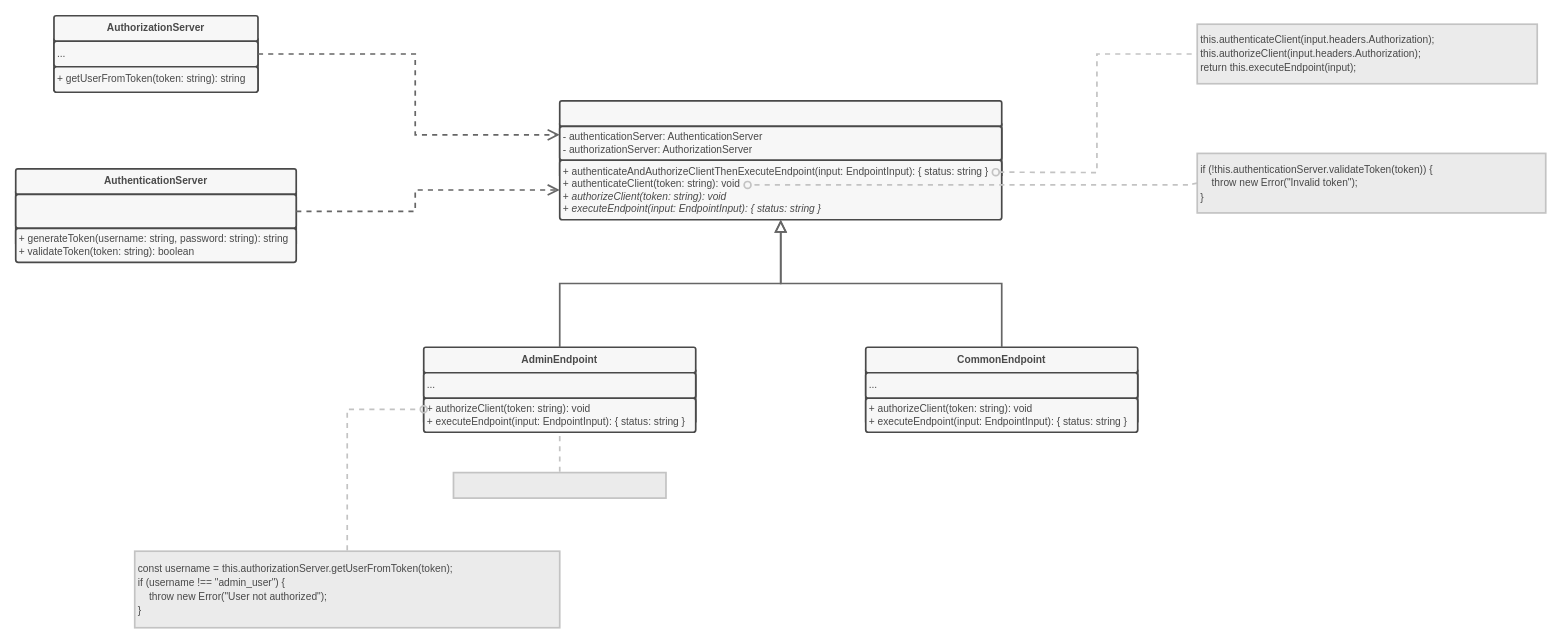
This 1561x643 diagram has some shape labels left out. Here are the shapes that lost their labels. From the top down, the centre of each, then its label:
(780,113): BaseRestrictedEndpoint
(155,211): - adminUserToken: string - commonUserToken: string
(559,485): return { status: "successful" };
